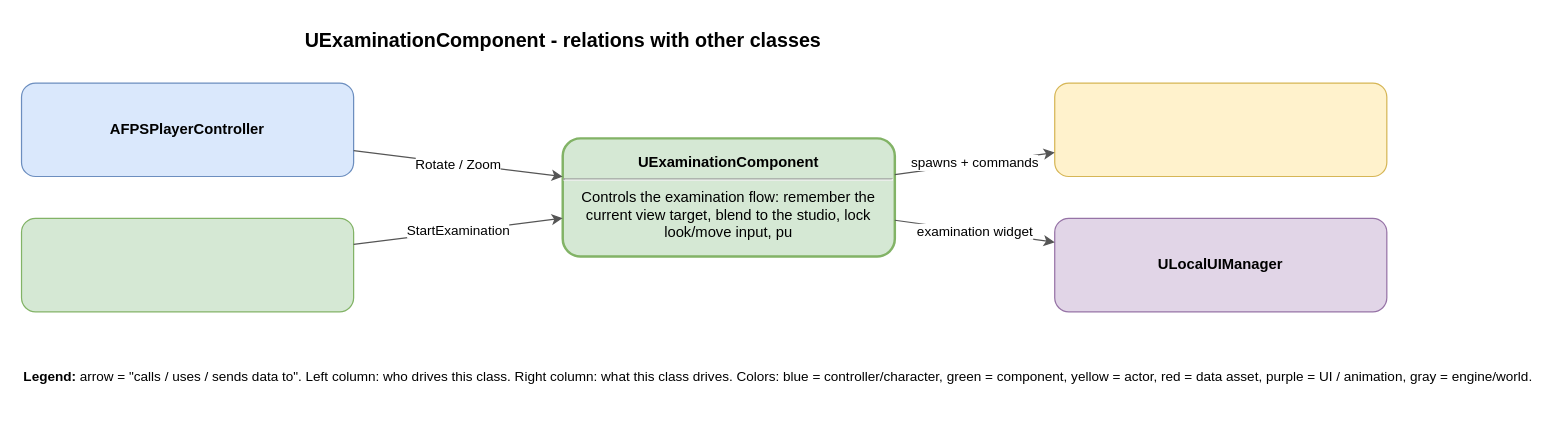
The diagram is 1555 pixels wide and 431 high, and some of its shapes have lost their labels. Each missing label, with the centre of its shape:
AExamineStudio: point (1220, 129)
UInteractionComponent: point (187, 264)
